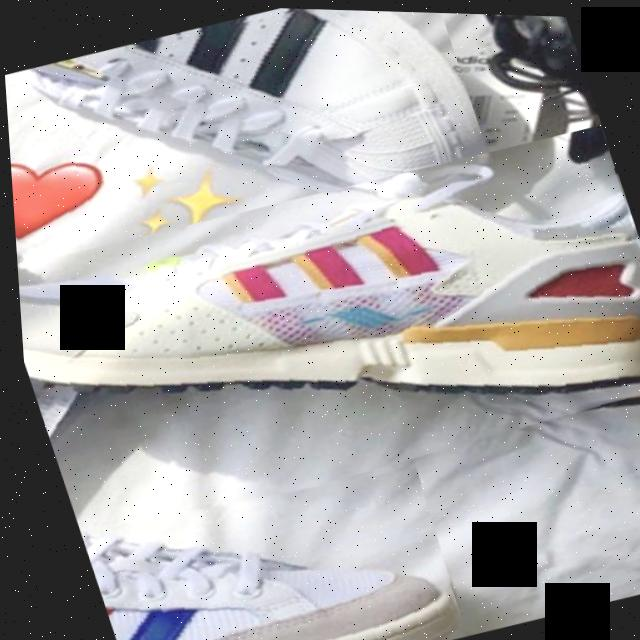shoe: (6, 106, 640, 564), (12, 0, 496, 274), (68, 441, 464, 640)
